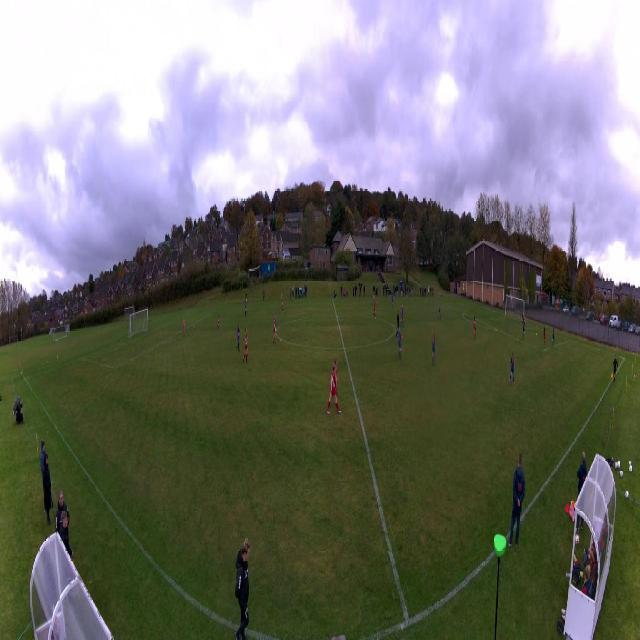ball: (536, 333, 537, 337)
player: (326, 365, 342, 415), (334, 356, 342, 398), (509, 352, 515, 386), (397, 328, 403, 360), (243, 328, 248, 363), (432, 329, 436, 365), (396, 310, 401, 335), (273, 316, 277, 345), (236, 324, 240, 353), (473, 316, 477, 338), (401, 305, 405, 327), (216, 311, 220, 333), (551, 327, 555, 348), (372, 300, 376, 320), (438, 302, 442, 321), (182, 316, 186, 335), (542, 328, 546, 346), (523, 319, 526, 339), (391, 294, 394, 308), (282, 296, 284, 314), (372, 290, 375, 302), (245, 299, 247, 316), (522, 312, 525, 323)
